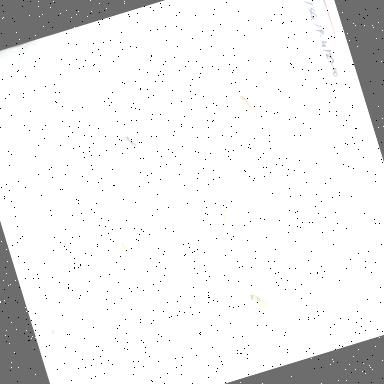pbw: (245, 286, 271, 316), (232, 88, 256, 116), (122, 131, 144, 155), (216, 201, 234, 230), (118, 238, 136, 264)
